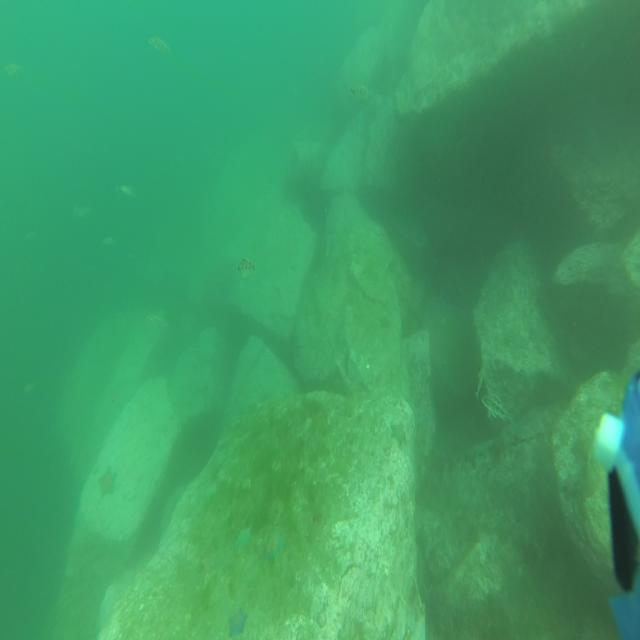starfish: (560, 467, 581, 503), (264, 528, 286, 561), (96, 465, 118, 498), (227, 608, 249, 638), (233, 524, 254, 554), (390, 419, 407, 448)
